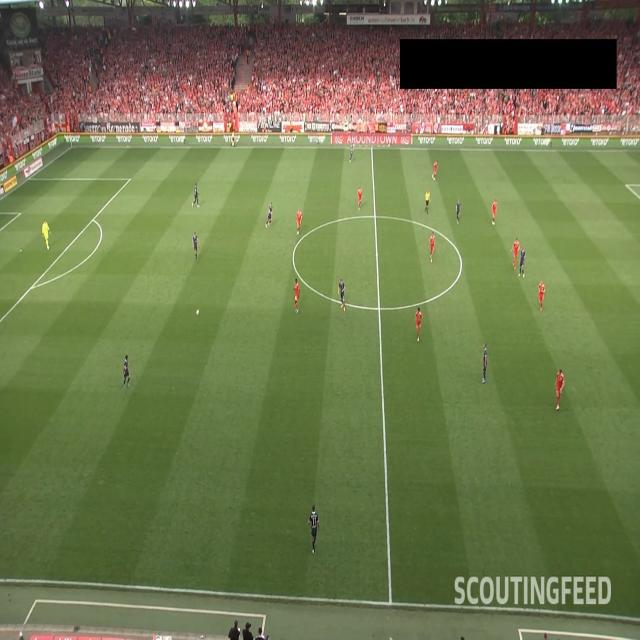ball: (196, 308, 200, 316)
